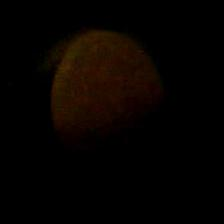fertile: (48, 29, 168, 177)
